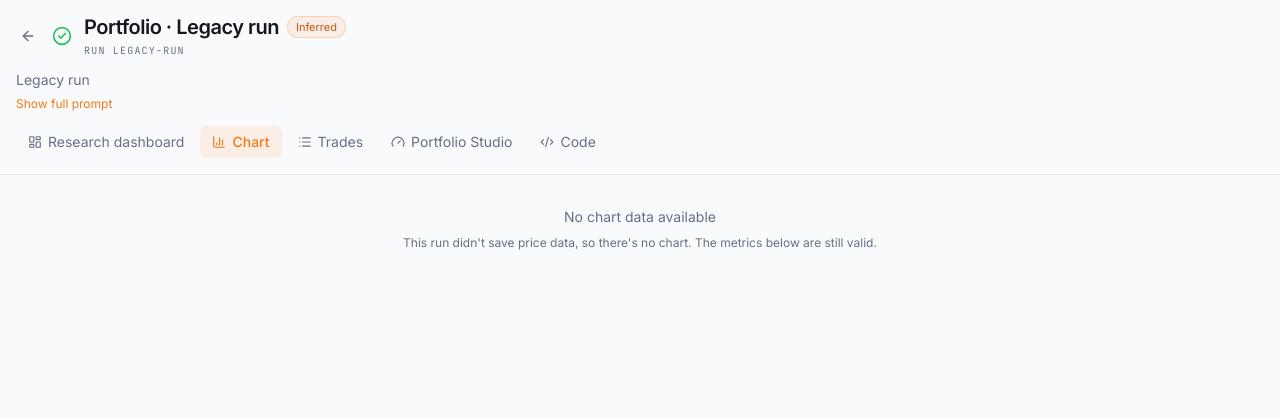
renders the requested count from legacy rebalance_count for old artifacts
Check: the text "Legacy run" is shown, box [16,71,90,88]
Step 1. Click the tab "Portfolio Studio" → (452, 142), box [379,126,524,158]
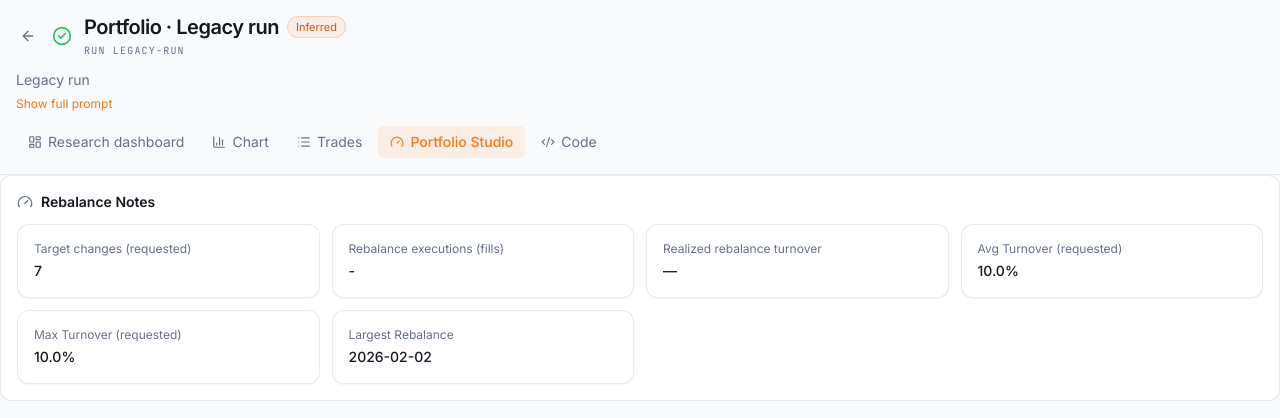
Check: the text "Rebalance Notes" is shown, box [17,193,155,210]
Check: the text "7" is shown, box [34,262,42,279]
